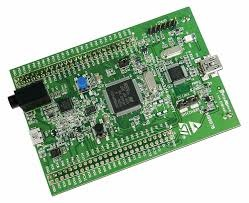STM32F4-DISC: (3, 7, 244, 199)
